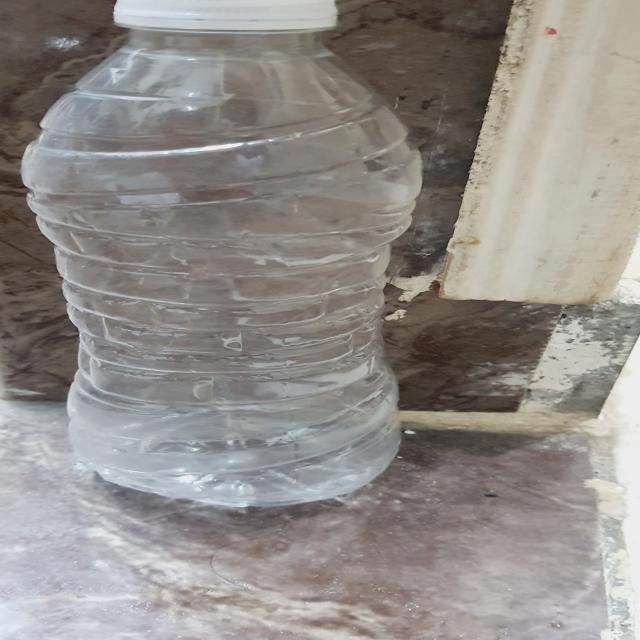plastic: (18, 0, 423, 516)
